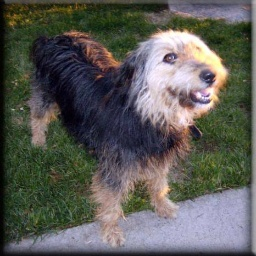dog: (27, 24, 226, 253)
